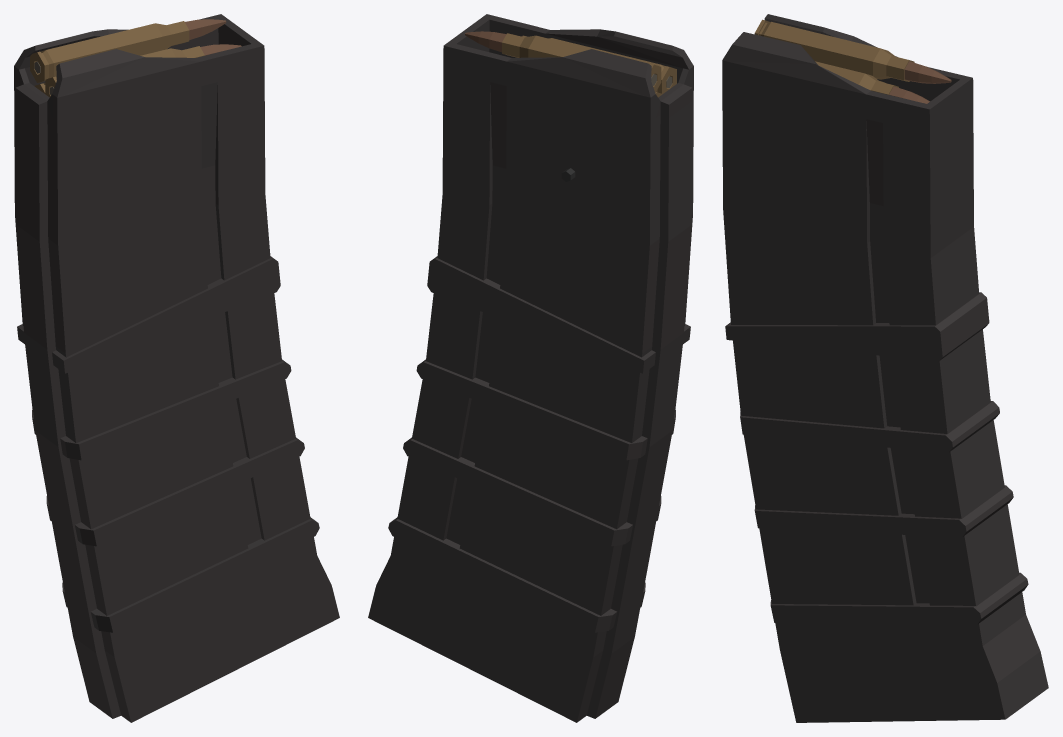
Rendered from mag.fbx.
The picture shows the model from 3 angles, left to right: view 1: azimuth 30°, elevation 25°; view 2: azimuth 150°, elevation 25°; view 3: azimuth 330°, elevation 25°; orthographic projection.
Visible parts, largest first — view 1: polySurface109; view 2: polySurface109; view 3: polySurface109.
Part boxes in pixels (x1=…): polySurface109: x1=14, y1=14, x2=339, y2=722; polySurface109: x1=368, y1=14, x2=693, y2=722; polySurface109: x1=722, y1=14, x2=1048, y2=722.
Bounding box in the file's own units: 44.18 × 97.08 × 13.11.
